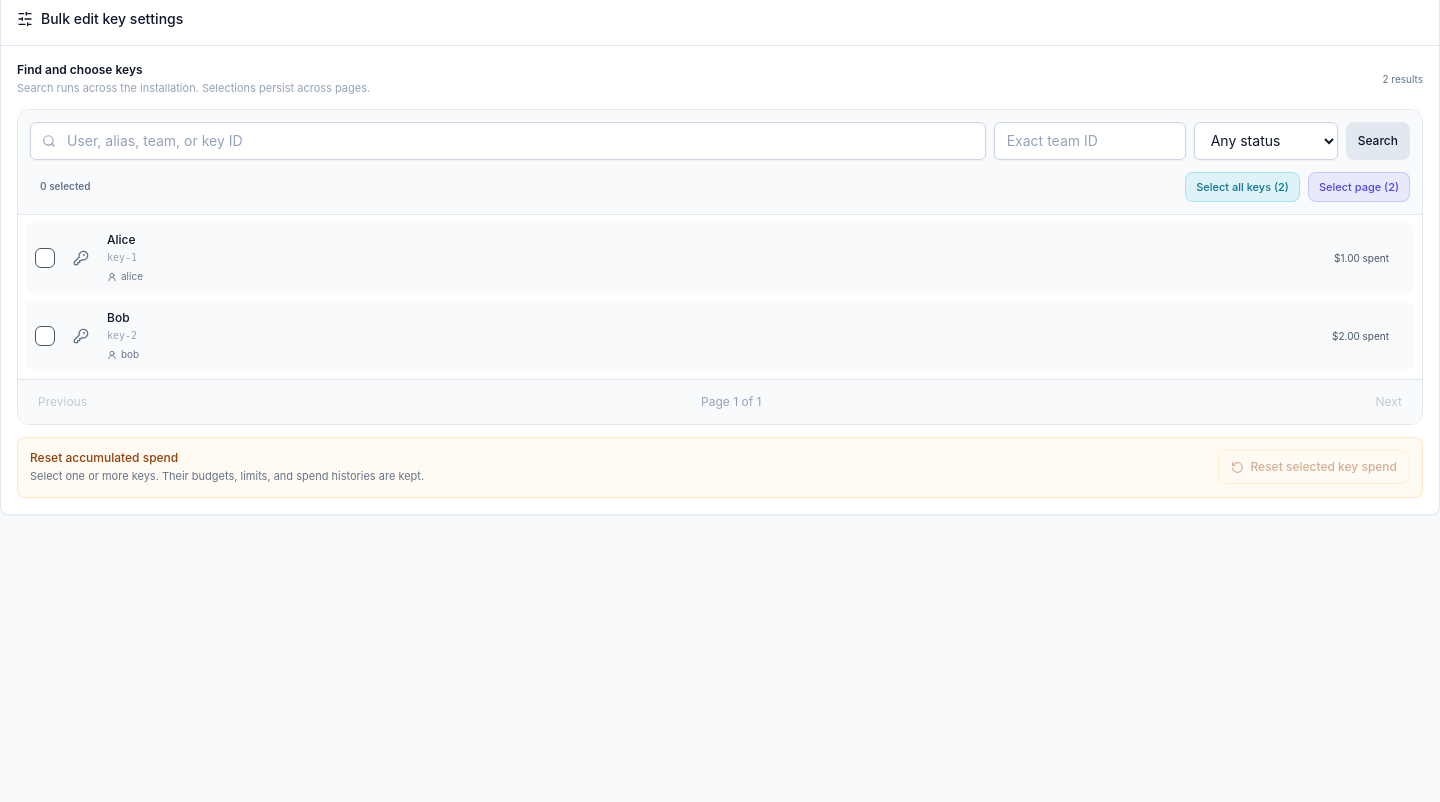
Test: BulkKeyEditor › prefills shared values and marks different selected-key values as mixed
Click the button "Select page (2)": (1359, 187) [1308,172,1410,202]
(page scrolled)
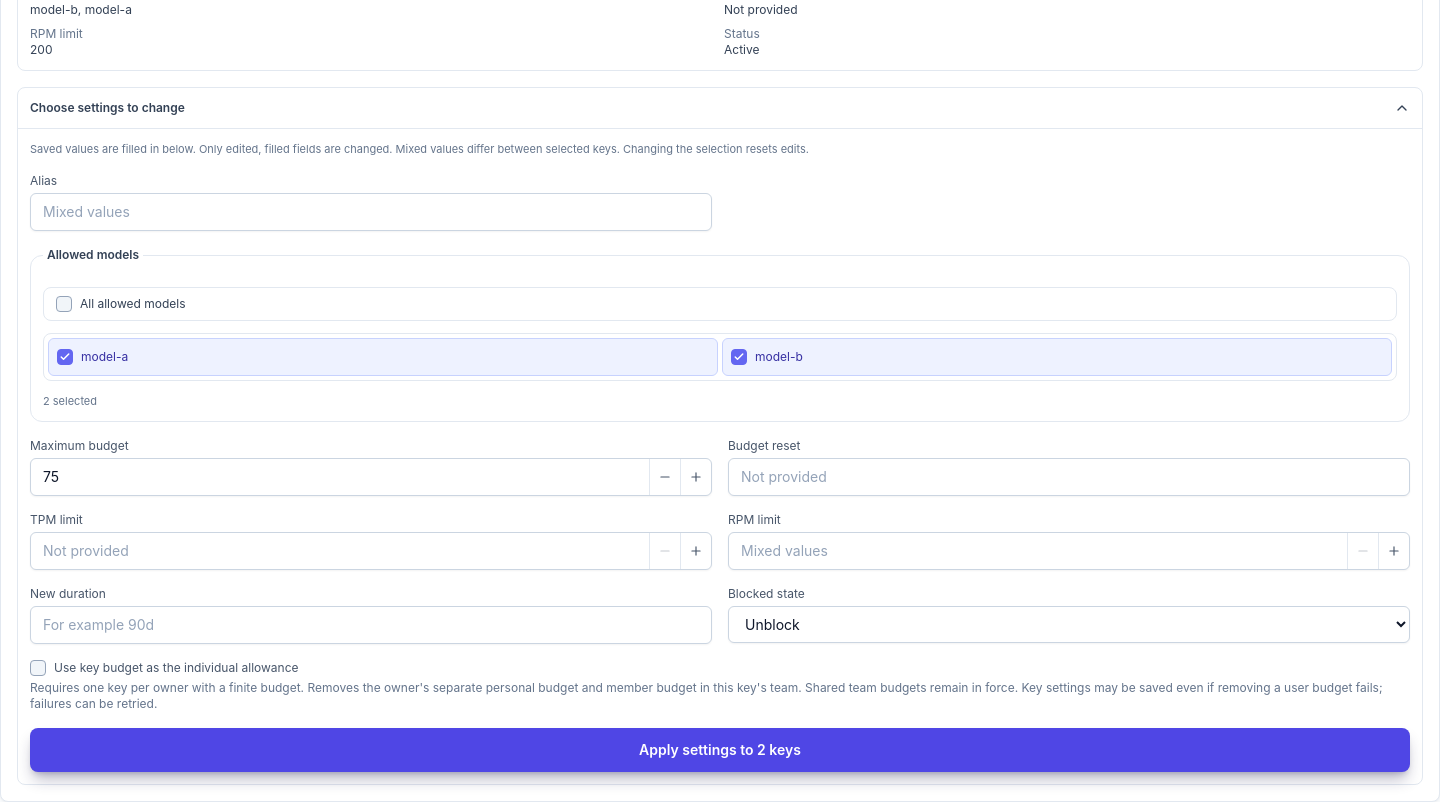
Result: the number field labelled "Maximum budget" holds "75" at [31,459,649,495]
Result: the dropdown labelled "Blocked state" shows "Unblock" at [728,606,1410,643]
Result: the checkbox labelled "model-a" is checked at [57,349,73,365]
